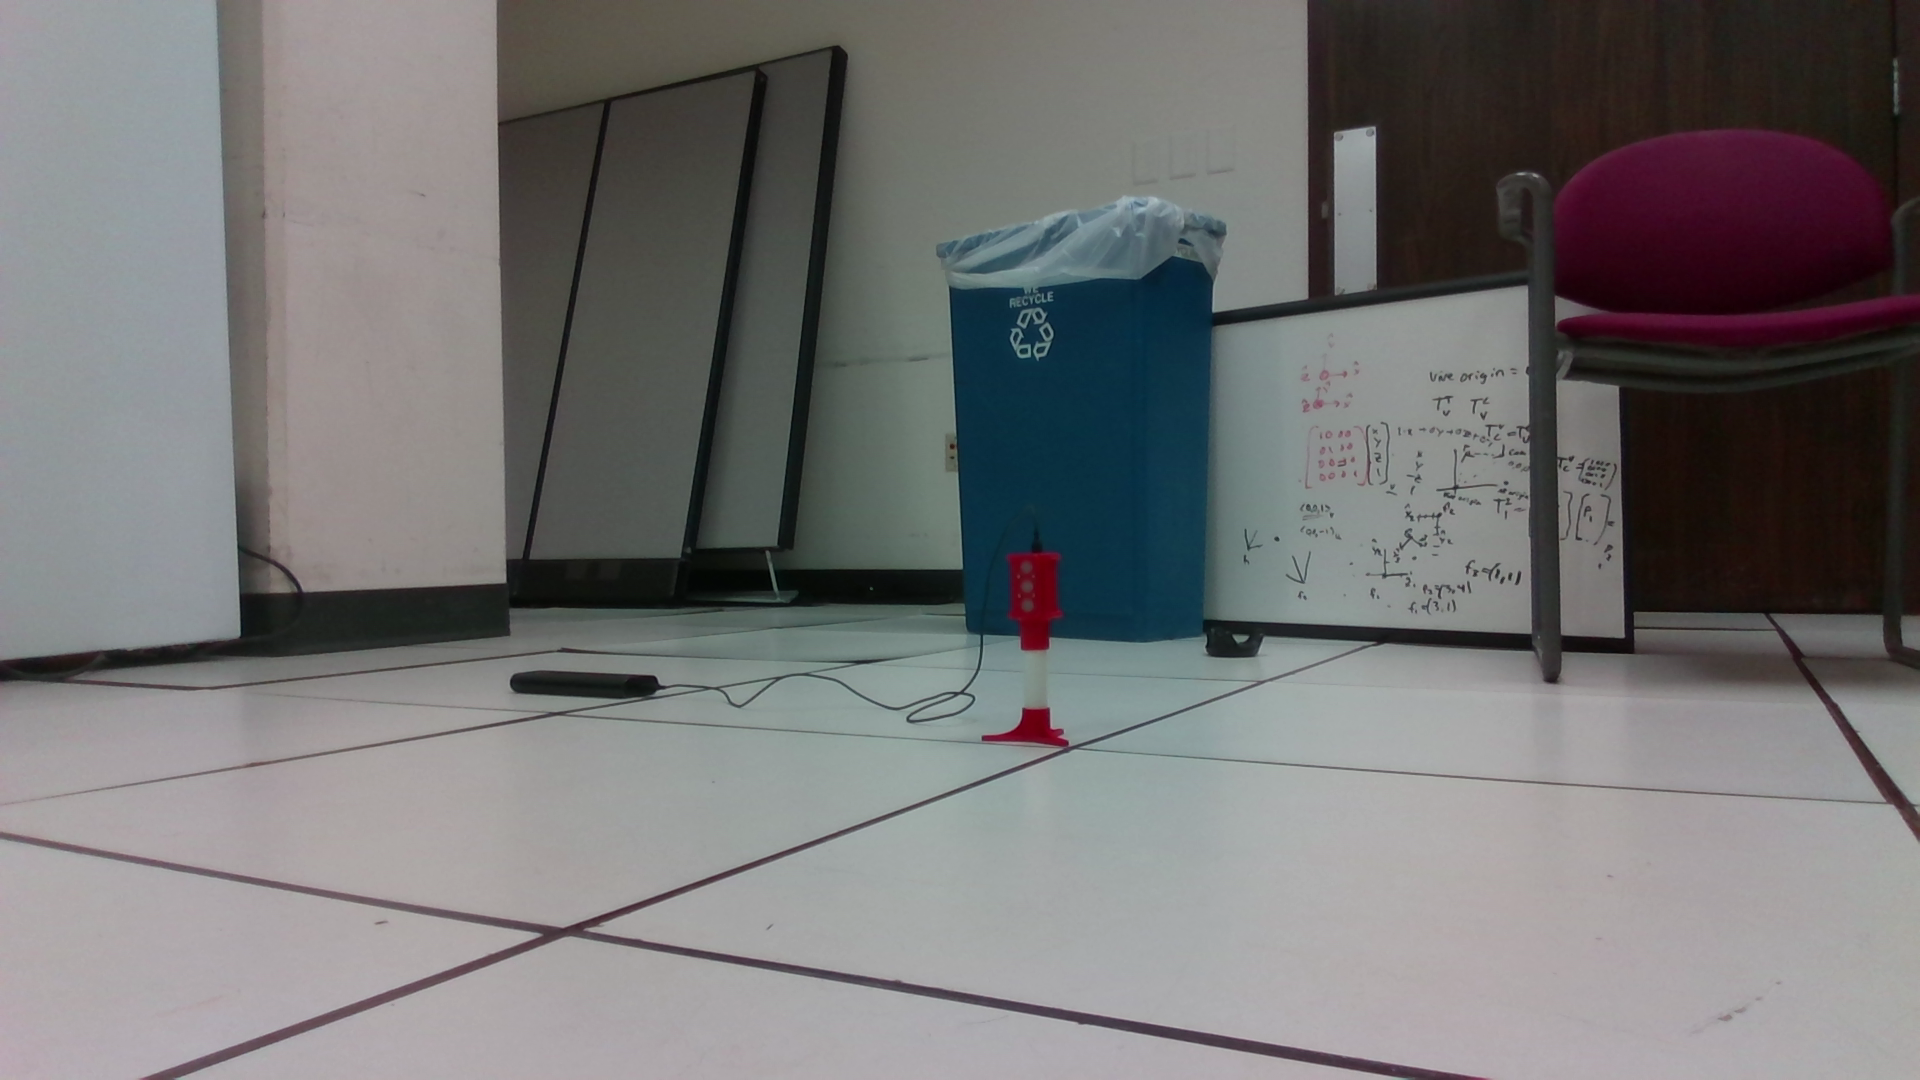stoplight: (1006, 554, 1064, 654)
